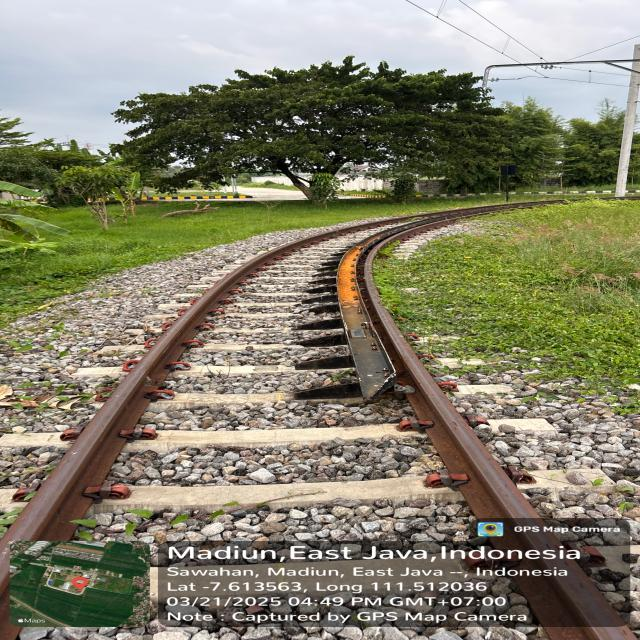rail-detection: (0, 202, 540, 608), (363, 240, 538, 519), (336, 210, 490, 400), (518, 561, 635, 640)
